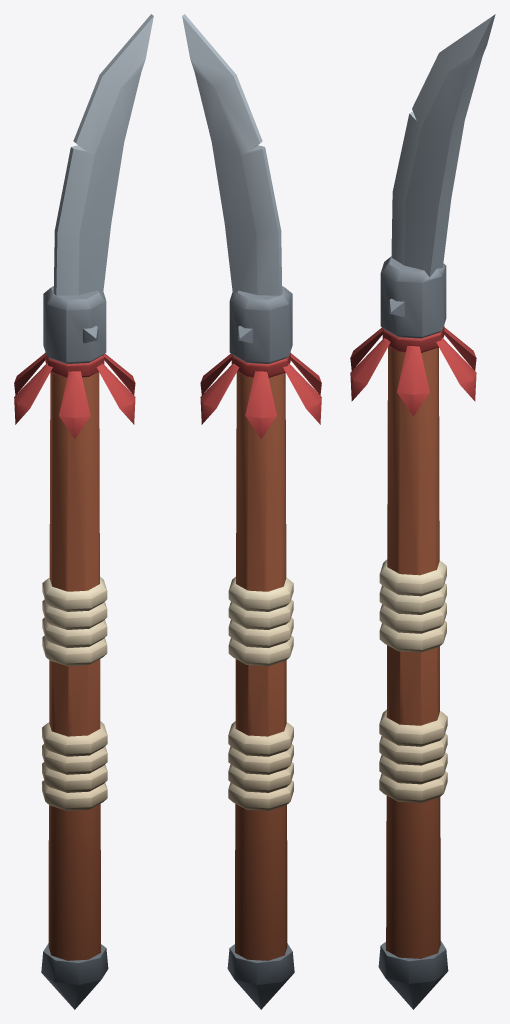
Rendered from scythe_iron.glb.
3 views of the same model, side by side, from view 1: azimuth 30°, elevation 25°; view 2: azimuth 150°, elevation 25°; view 3: azimuth 330°, elevation 25° (orthographic). The views are drawn at different scales.
Visible parts, largest first — view 1: Item; view 2: Item; view 3: Item.
Part boxes in pixels (box(x1,y1,x2,y2)): Item: box(14, 14, 153, 1009); Item: box(182, 14, 321, 1009); Item: box(350, 14, 495, 1009).
Size of the model in its own units: 0.4762 by 3.24 by 0.3653.
2 materials, 2 textured.
